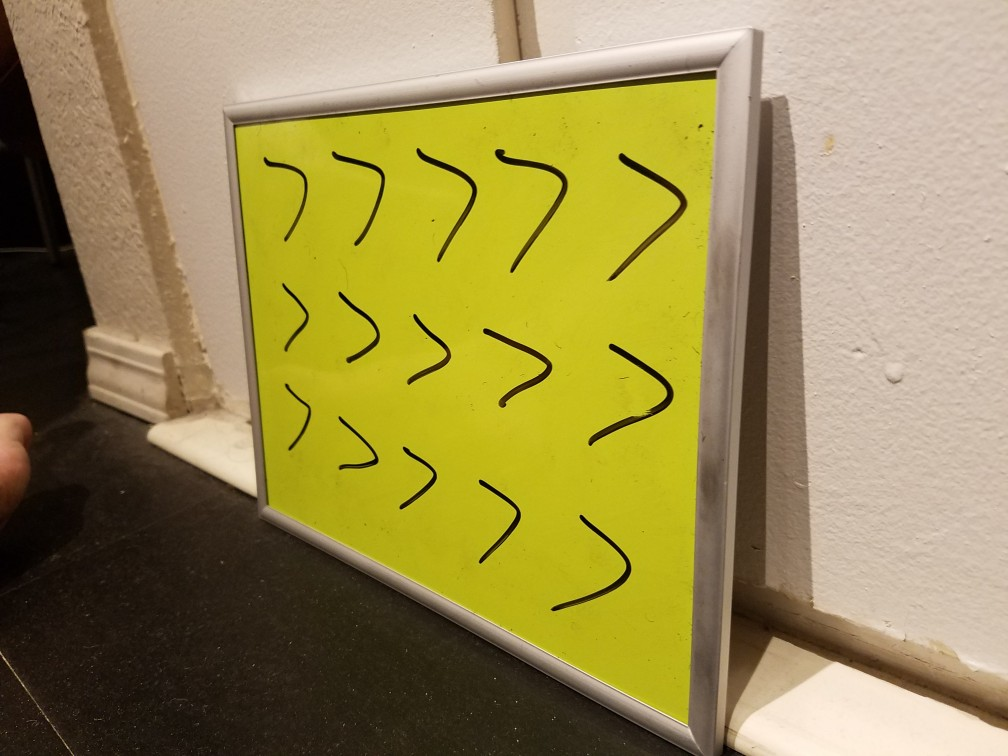>: (601, 130, 697, 286), (550, 474, 638, 639), (576, 315, 674, 450), (480, 305, 563, 423), (498, 132, 571, 262), (459, 453, 533, 574), (413, 136, 482, 264), (329, 127, 389, 252), (247, 145, 315, 248), (393, 416, 446, 530), (328, 275, 385, 377), (405, 286, 456, 394), (327, 391, 380, 488), (275, 263, 313, 354), (281, 369, 315, 457)
